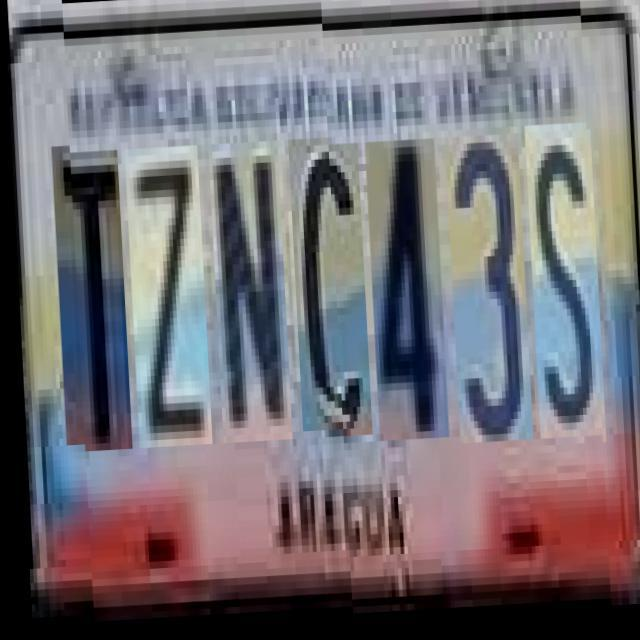3: (442, 133, 528, 442)
4: (363, 137, 444, 439)
C: (286, 140, 368, 435)
N: (206, 144, 288, 446)
S: (522, 122, 600, 438)
T: (50, 152, 128, 454)
Z: (122, 148, 208, 450)
